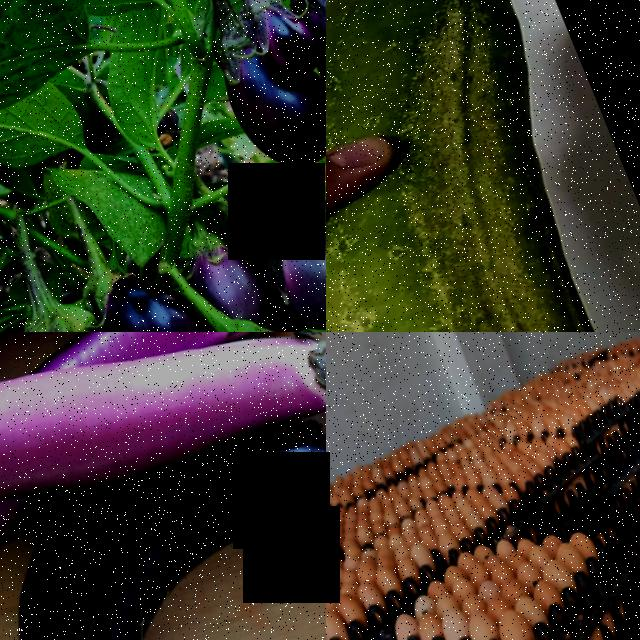cucumber: (326, 0, 640, 332)
egg_: (491, 600, 541, 640), (460, 598, 498, 640), (537, 548, 574, 588), (332, 583, 368, 623), (513, 585, 549, 625), (436, 600, 471, 639), (552, 531, 584, 568), (412, 604, 442, 639), (373, 556, 402, 591), (405, 530, 434, 565), (353, 574, 382, 607), (326, 599, 349, 640)
eggplant: (0, 379, 326, 640), (7, 332, 326, 520), (193, 3, 318, 184), (239, 179, 326, 332), (81, 235, 216, 332), (183, 212, 268, 328), (0, 280, 179, 332), (228, 0, 326, 85)
